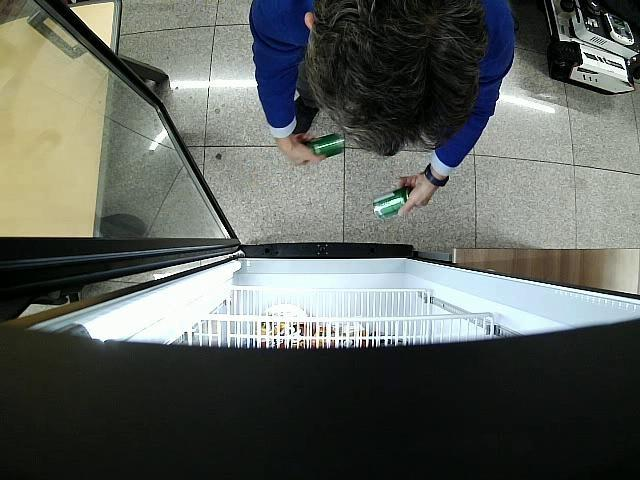12_chilsungCider: (373, 186, 412, 220), (304, 134, 346, 158)
